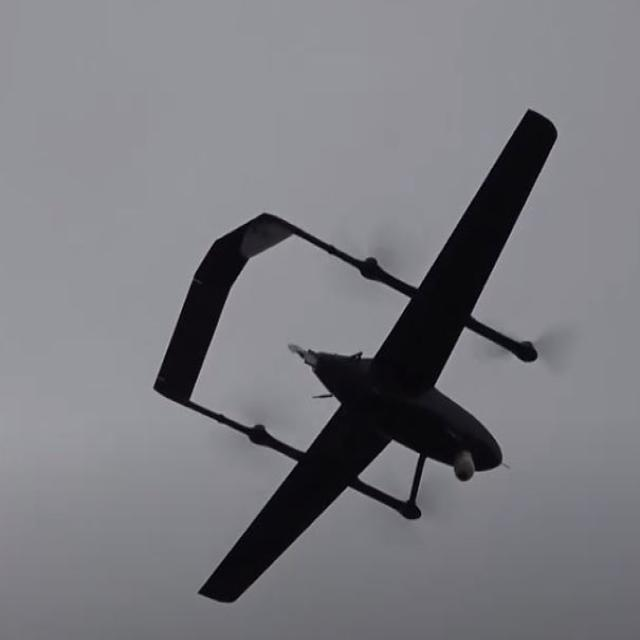iha: (152, 104, 560, 608)
